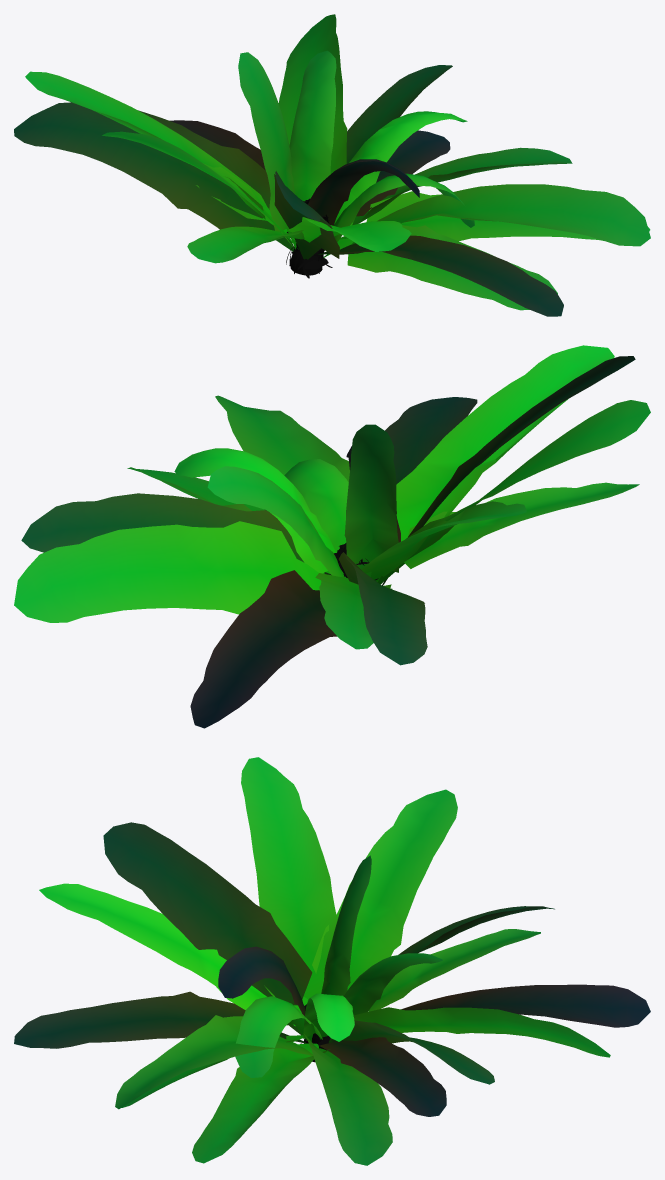
Rendered from Palm_5_Mesh.fbx.
3 views of the same model, one above another, from view 1: azimuth 30°, elevation 25°; view 2: azimuth 150°, elevation 25°; view 3: azimuth 270°, elevation 25° (orthographic). The views are drawn at different scales.
Visible parts, largest first — view 1: Palm_5_LOD0; view 2: Palm_5_LOD0; view 3: Palm_5_LOD0.
Part boxes in pixels (bbox=[...]): Palm_5_LOD0: bbox=[14, 14, 650, 316]; Palm_5_LOD0: bbox=[14, 345, 650, 728]; Palm_5_LOD0: bbox=[14, 757, 650, 1165].
Bounding box in the file's own units: 373 × 151 × 437.
